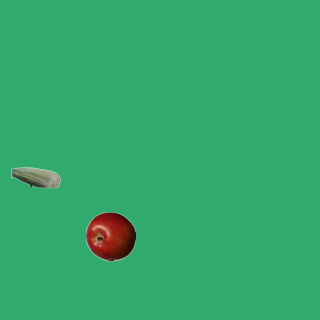Apple Braeburn: (85, 211, 135, 261)
Corn Husk: (10, 152, 60, 202)
